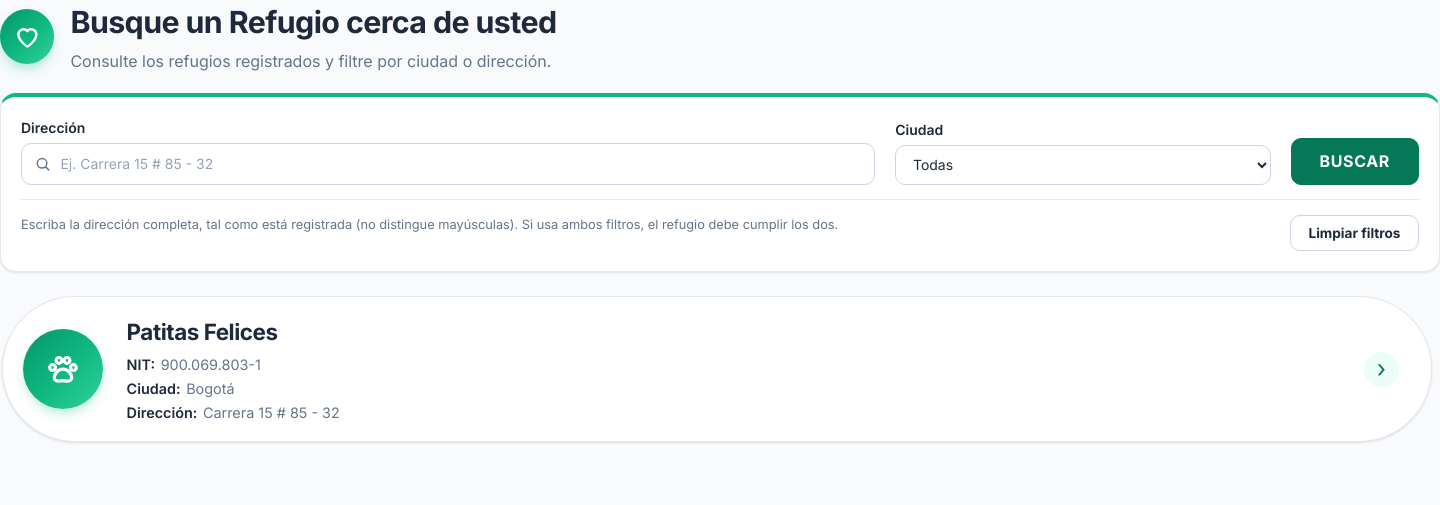
it: ShelterListPage › lists every shelter again when the filters are cleared from the empty state
The width and height of the screenshot is (1440, 505).
Step 1. Type "Calle 1" into the field labelled "Dirección" → [448, 164], box top-left (21, 143), bottom-right (875, 185)
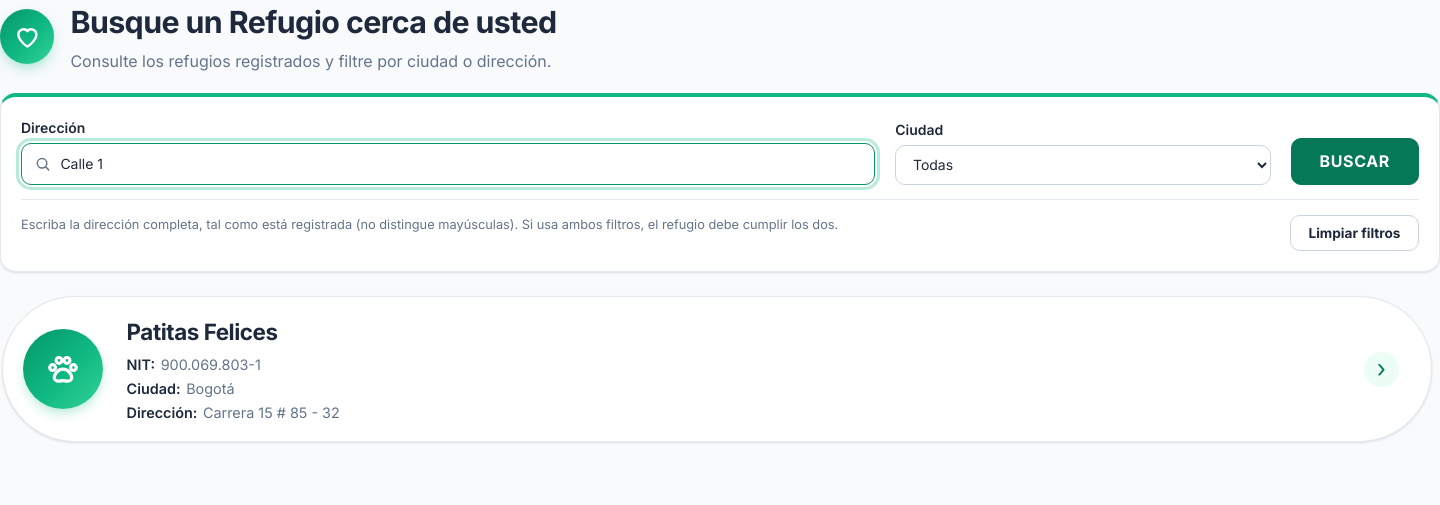
Step 2. Click the button "Buscar" → [1355, 161], box top-left (1290, 138), bottom-right (1419, 185)
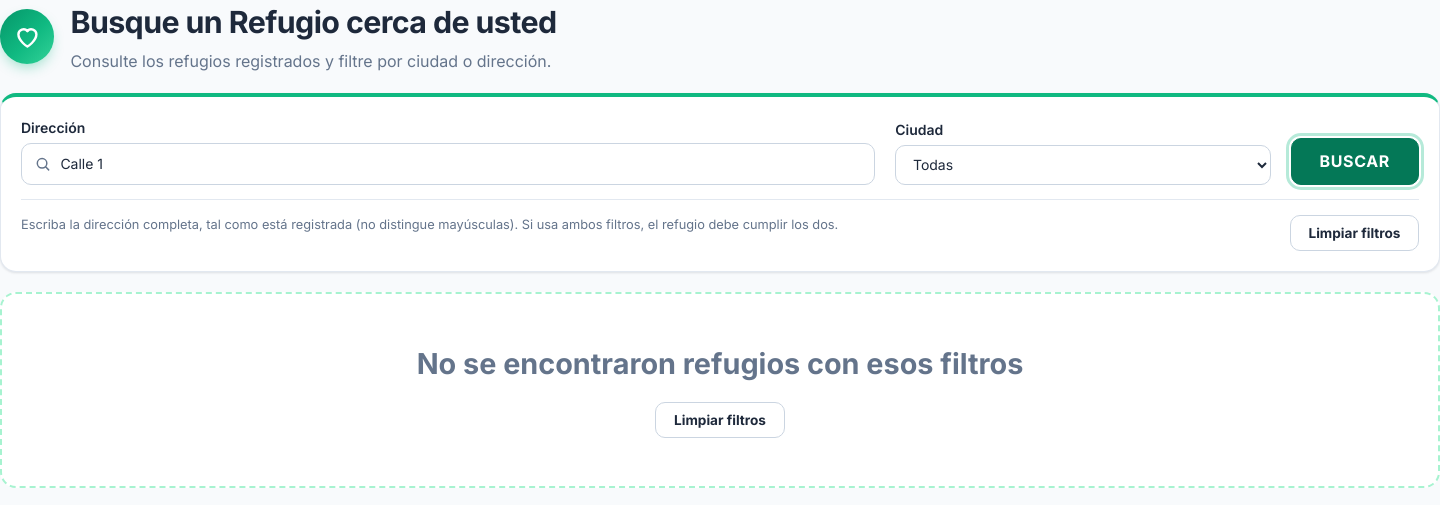
Step 3. Click the 2nd button "Limpiar filtros" → [720, 420], box top-left (656, 402), bottom-right (785, 438)
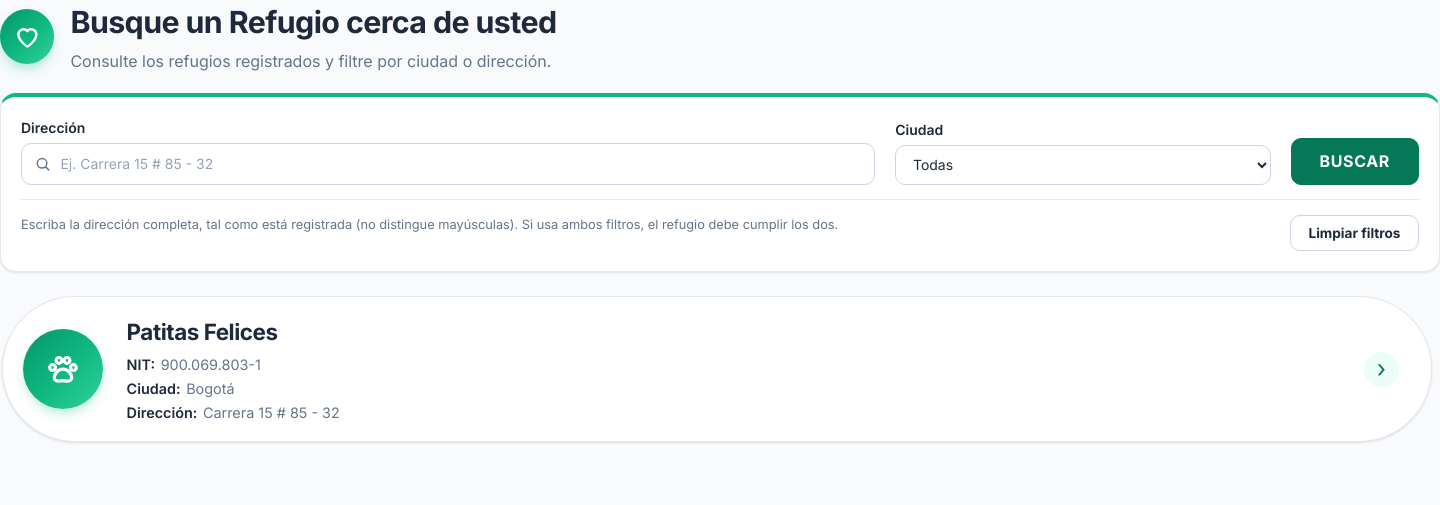
expect the dropdown labelled "Ciudad" shows "Todas": met, box top-left (895, 145), bottom-right (1271, 185)
expect the list named "Lista de refugios" is shown: met, box top-left (0, 292), bottom-right (1439, 446)
expect the field labelled "Dirección" is empty: met, box top-left (21, 143), bottom-right (875, 185)
